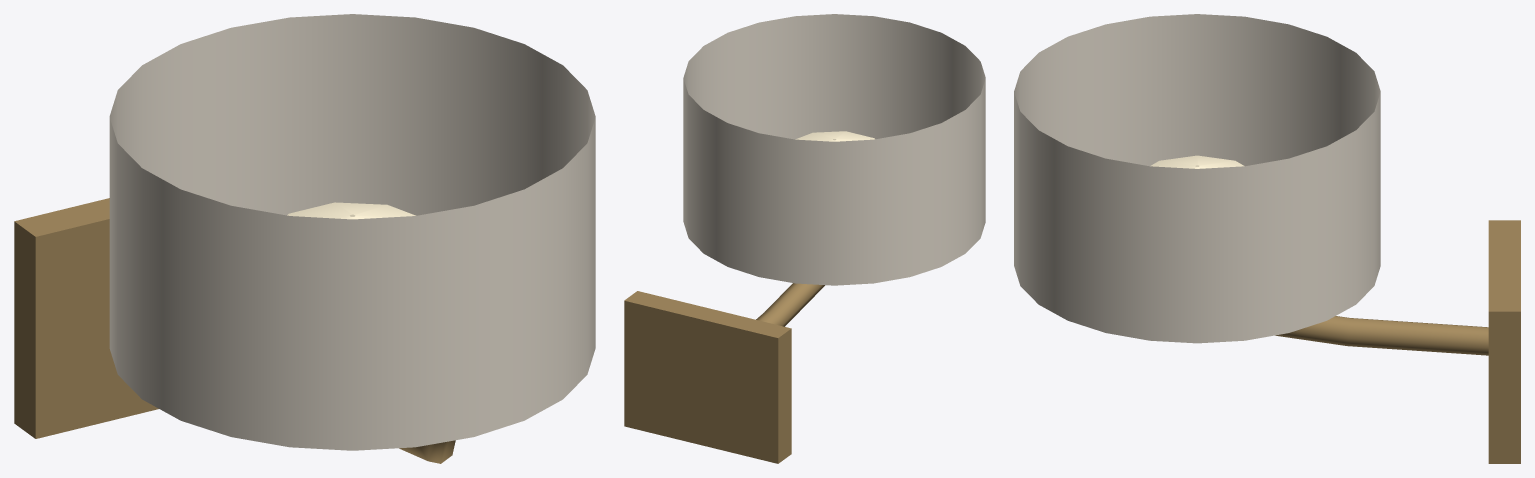
File: CAL-SCN-std.glb
The picture shows the model from 3 angles, left to right: view 1: azimuth 30°, elevation 25°; view 2: azimuth 150°, elevation 25°; view 3: azimuth 270°, elevation 25°; orthographic projection. The views are drawn at different scales.
Visible parts, largest first — view 1: CAL-SCN-std; view 2: CAL-SCN-std; view 3: CAL-SCN-std.
Part boxes in pixels (box(x1,y1,x2,y2)): CAL-SCN-std: box(14, 14, 595, 463); CAL-SCN-std: box(624, 14, 985, 463); CAL-SCN-std: box(1014, 14, 1520, 463).
Bounding box in the file's own units: 0.17 × 0.1673 × 0.235.
